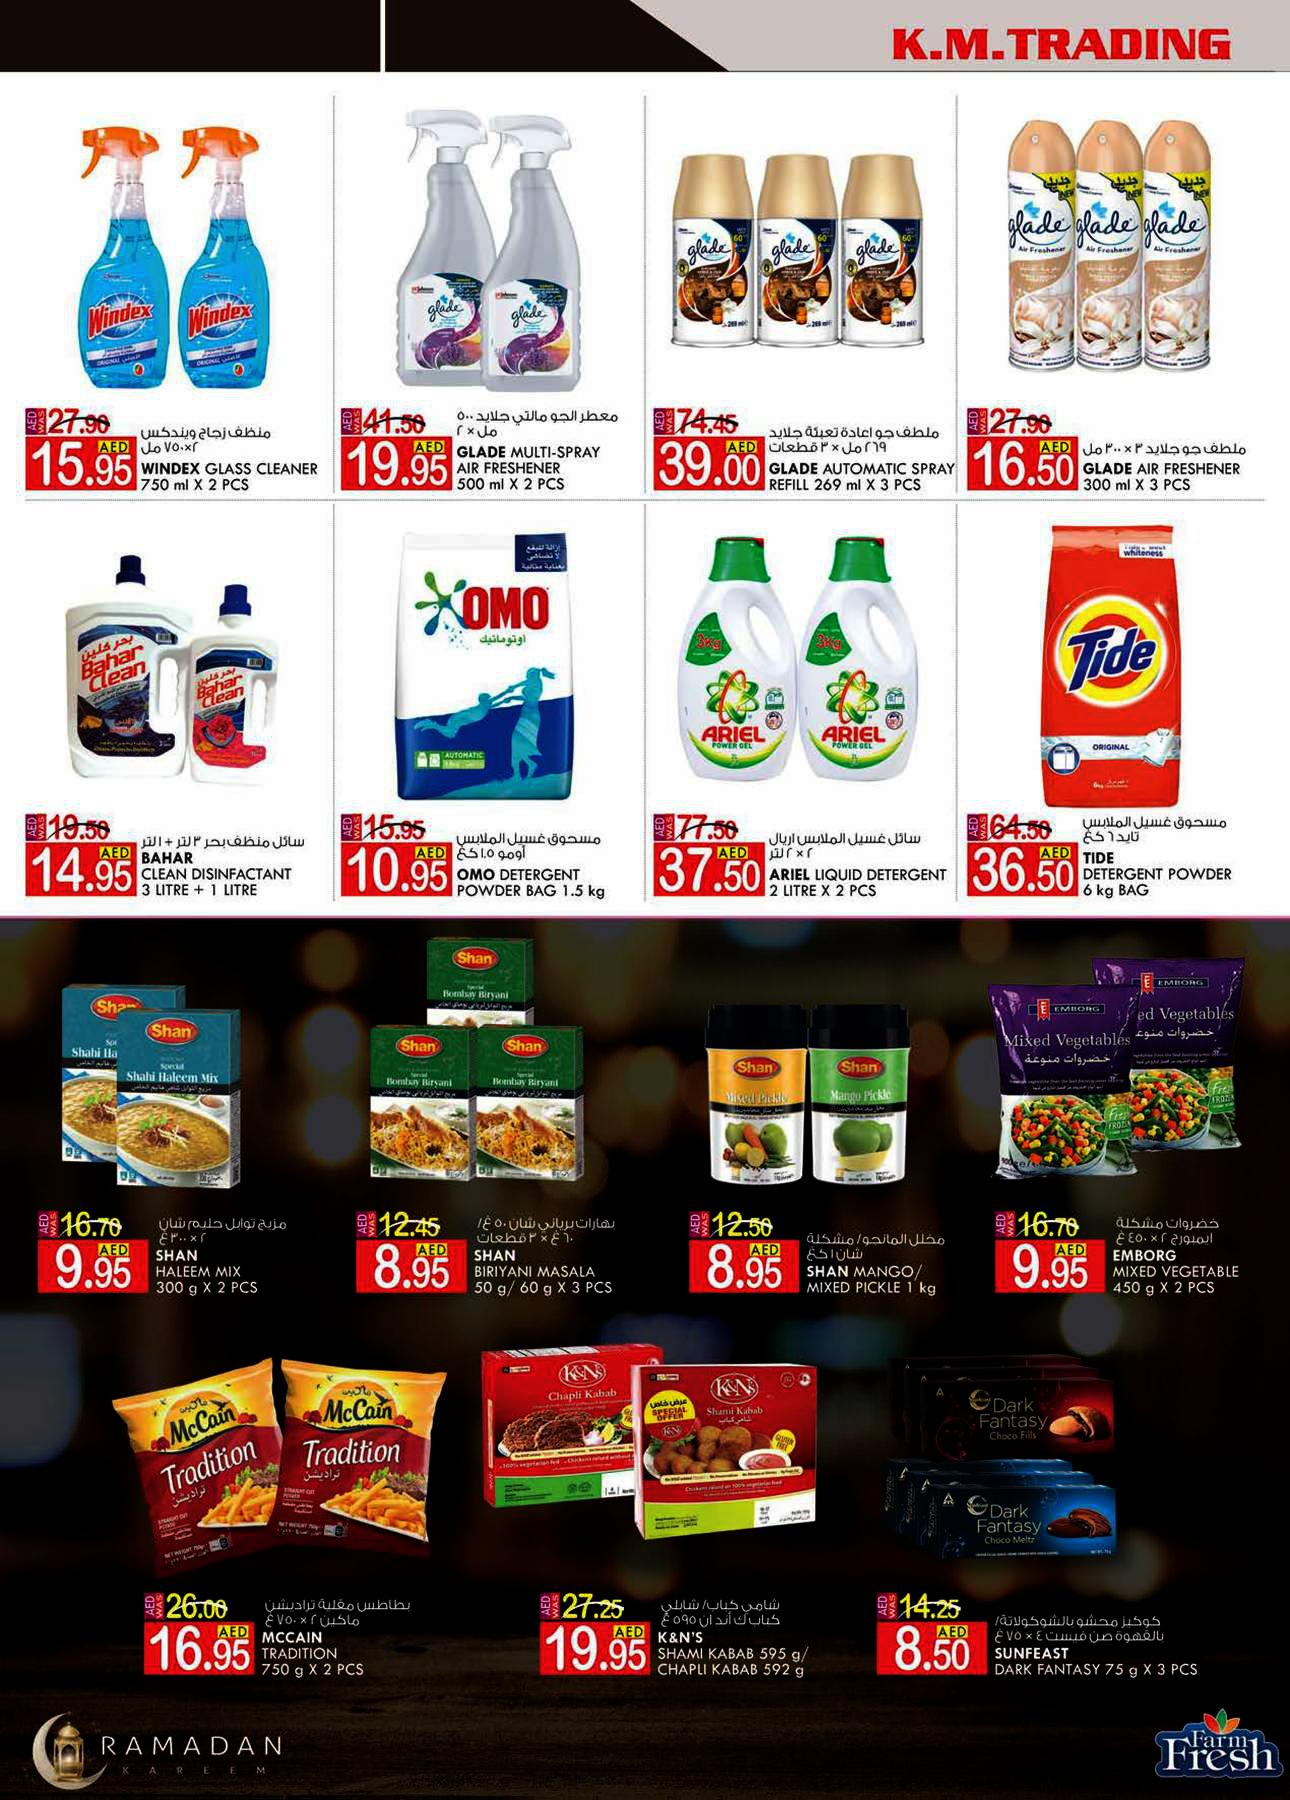text: (993, 1598, 1213, 1686), (452, 818, 639, 911), (452, 400, 627, 500), (766, 815, 954, 906), (138, 819, 321, 911), (653, 1587, 822, 1686), (137, 412, 331, 497), (1081, 807, 1250, 903), (255, 1591, 422, 1684), (154, 1204, 306, 1305), (766, 419, 956, 498), (470, 1210, 631, 1302), (800, 1220, 963, 1305), (1109, 1206, 1254, 1300), (1079, 430, 1251, 497)
